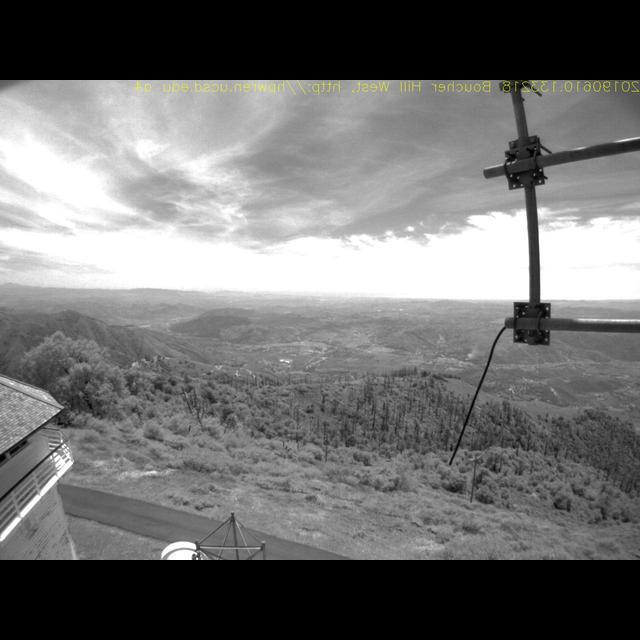Smoke: (465, 322, 497, 361)
